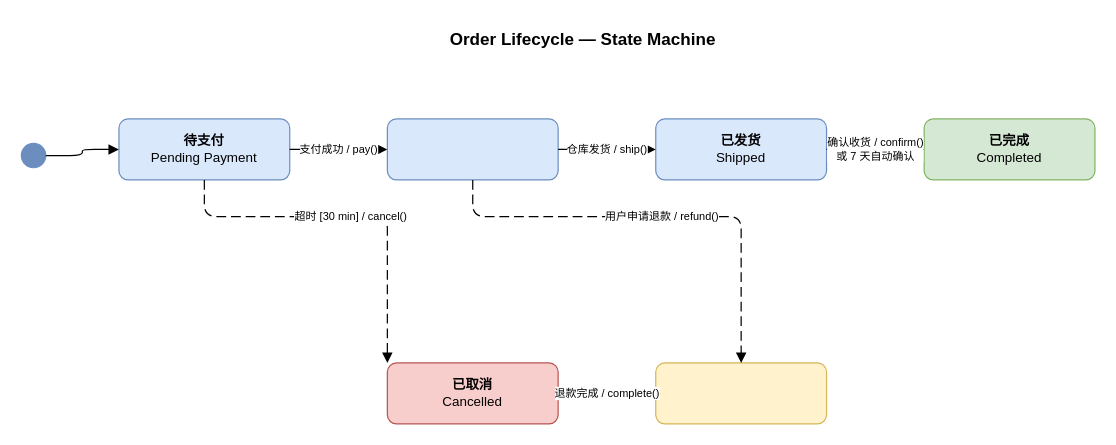
Image size: 1116x445. Some labels were removed from this diagram. Here are the shapes that lost their labels. From the top down, the centre of each, then its label:
At point (472, 149): "已支付 Paid".
At point (741, 393): "退款中 Refunding".
